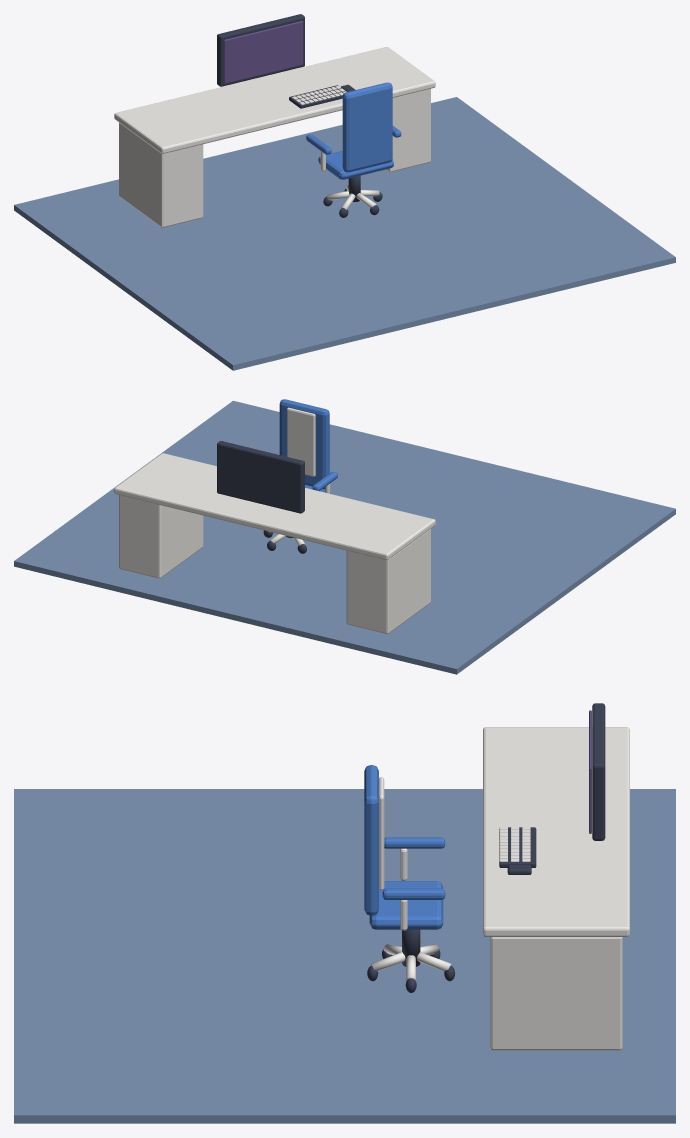
The model's file is fixture-production.glb.
The picture shows the model from 3 angles, top to bottom: view 1: azimuth 30°, elevation 25°; view 2: azimuth 150°, elevation 25°; view 3: azimuth 270°, elevation 25°; orthographic projection. The views are drawn at different scales.
Visible parts, largest first — view 1: fixture-floor, desk, desk-pedestal, chair-back, monitor-screen-proof, desk-pedestal.001, monitor-proof, chair-seat; view 2: fixture-floor, desk, desk-pedestal, desk-pedestal.001, monitor-proof, chair-back, chair-back-insert; view 3: fixture-floor, desk, desk-pedestal.001, chair-seat, chair-back, monitor-proof, chair-arm.001, chair-arm, chair-back-insert, keyboard-proof.
Part boxes in pixels (<box>): fixture-floor: <box>14,97,675,370</box>; desk: <box>114,47,435,153</box>; desk-pedestal: <box>119,122,203,227</box>; chair-back: <box>342,82,392,172</box>; monitor-screen-proof: <box>224,21,303,83</box>; desk-pedestal.001: <box>386,88,430,172</box>; monitor-proof: <box>217,14,304,86</box>; chair-seat: <box>318,151,393,179</box>; fixture-floor: <box>14,400,675,674</box>; desk: <box>114,453,435,560</box>; desk-pedestal: <box>346,529,430,633</box>; desk-pedestal.001: <box>119,495,203,578</box>; monitor-proof: <box>217,441,304,513</box>; chair-back: <box>279,399,329,489</box>; chair-back-insert: <box>287,407,315,476</box>; fixture-floor: <box>14,789,675,1123</box>; desk: <box>483,727,629,936</box>; desk-pedestal.001: <box>490,937,622,1050</box>; chair-seat: <box>369,881,443,929</box>; chair-back: <box>364,765,378,915</box>; monitor-proof: <box>592,703,605,840</box>; chair-arm.001: <box>382,888,445,899</box>; chair-arm: <box>384,837,445,848</box>; chair-back-insert: <box>379,777,384,890</box>; keyboard-proof: <box>499,827,536,867</box>.
Bounding box in the file's own units: 4.2 × 1.36 × 3.6.
